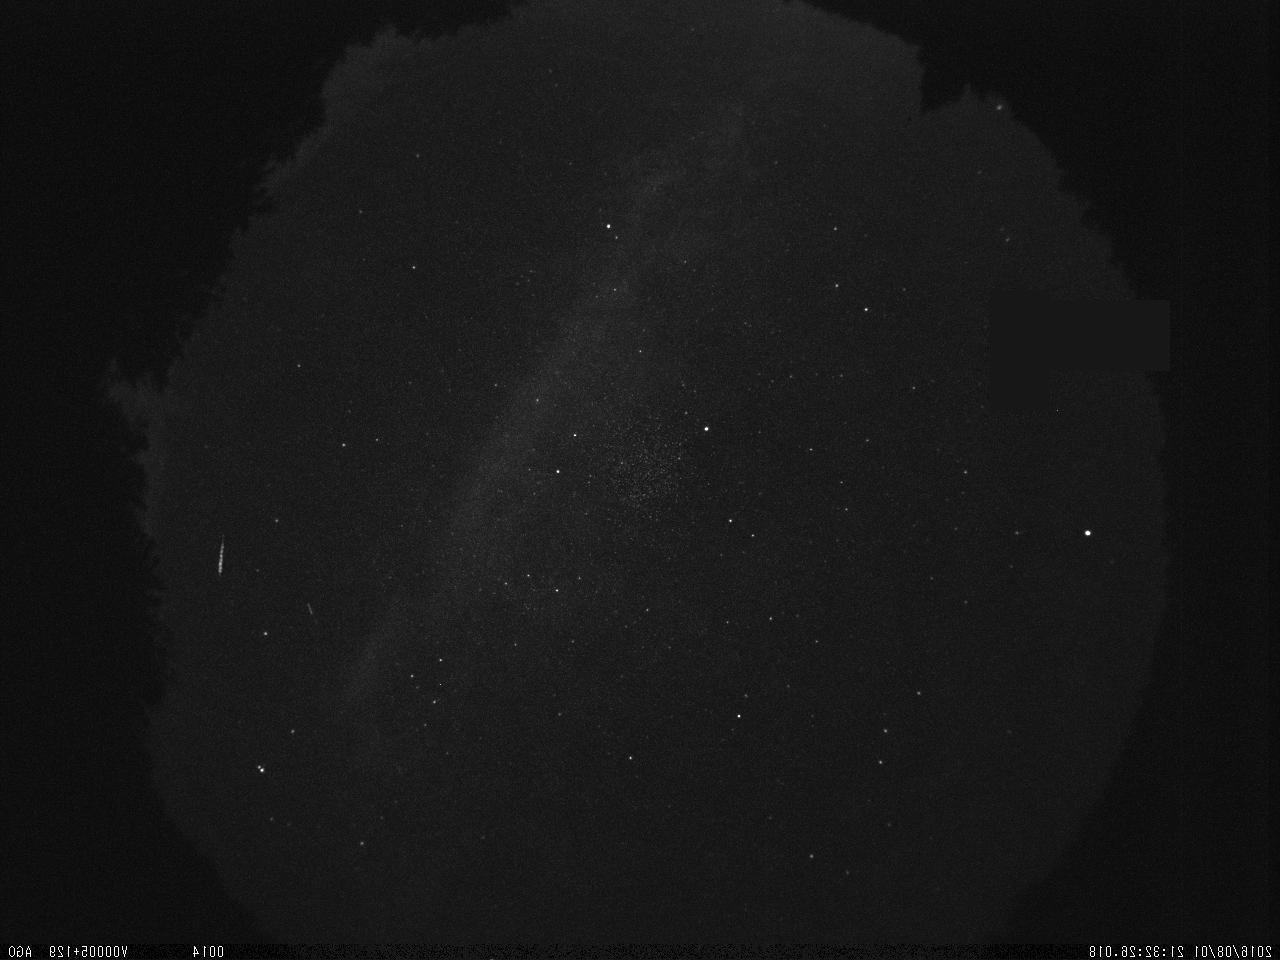meteor: (210, 523, 237, 584)
